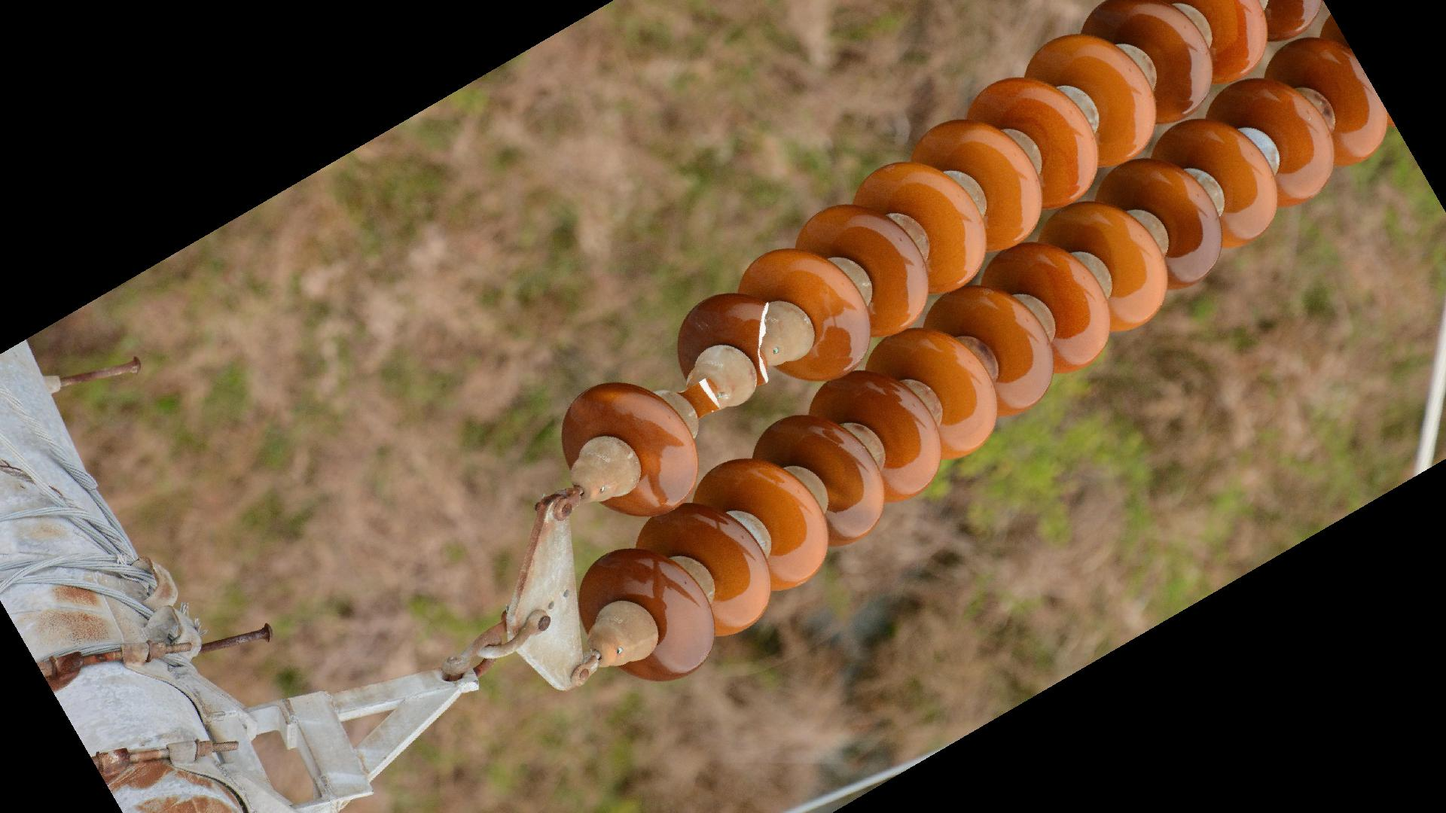insulator: (572, 20, 1395, 688), (670, 1, 1328, 413), (556, 376, 708, 524)
insulator_breakage: (752, 297, 779, 391)
